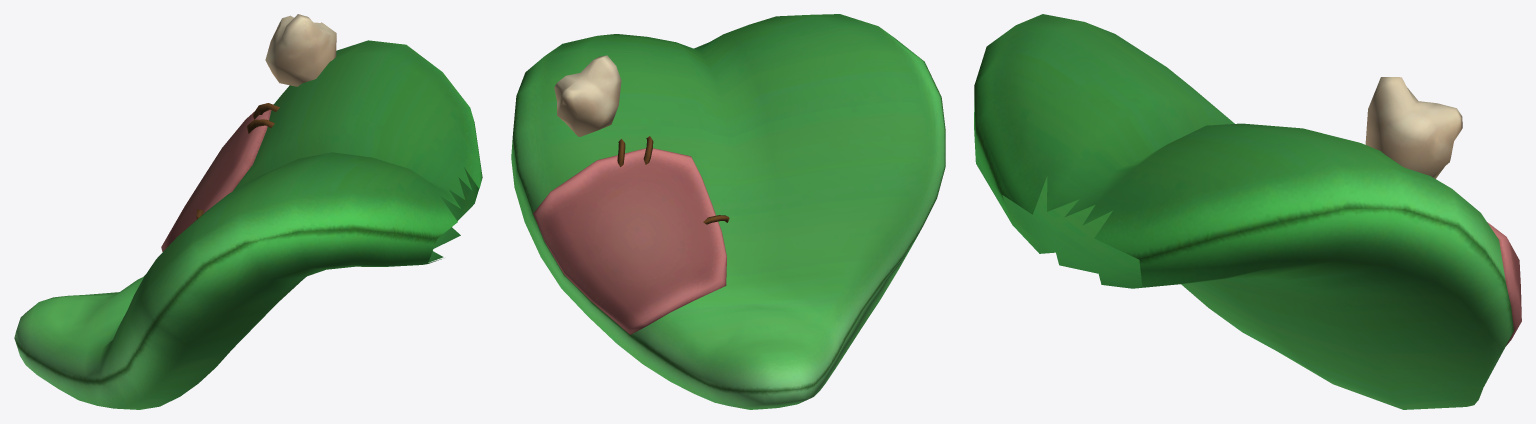
The model's file is stuffyflower_hoja_tras_der.obj.
The picture shows the model from 3 angles, left to right: view 1: azimuth 30°, elevation 25°; view 2: azimuth 150°, elevation 25°; view 3: azimuth 270°, elevation 25°; orthographic projection. The views are drawn at different scales.
Visible parts, largest first — view 1: stuffyflower_hoja_tras_der; view 2: stuffyflower_hoja_tras_der; view 3: stuffyflower_hoja_tras_der.
Boxes of the visible parts, x1,y1,x2,y2 form: stuffyflower_hoja_tras_der: (14, 14, 482, 409); stuffyflower_hoja_tras_der: (511, 14, 945, 409); stuffyflower_hoja_tras_der: (974, 14, 1521, 409).
Bounding box in the file's own units: 0.3963 × 0.3369 × 0.4042.
